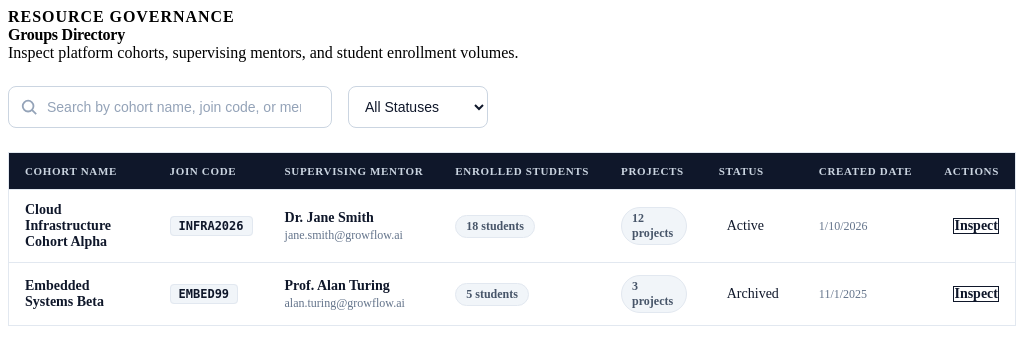
GrowFlow Phase 7 Batch 7 Part 2 — Admin Governance Resources › AD06 — Groups Directory (/admin/groups) › renders empty state when no groups match search
The image size is (1024, 343).
expect the link "Cloud Infrastructure Cohort Alpha" is shown: met, box [25,202,111,249]
Type "Nonexistent Group 99" into the search field named "search cohorts". click: (170, 107)
box: [8,86,332,128]
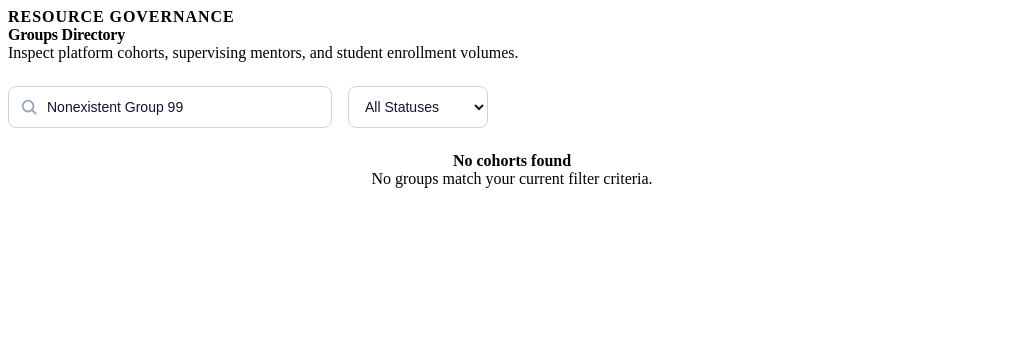
expect the heading "No cohorts found" is shown: met, box [453,152,571,170]
expect the text "No groups match your current filter criteria." is shown: met, box [371,170,653,188]
